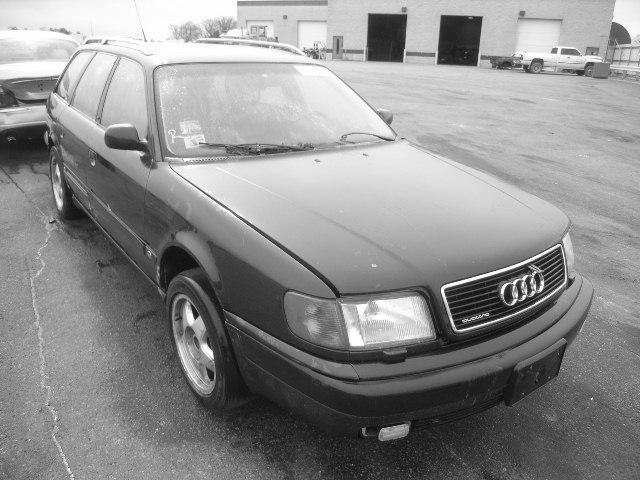car: (45, 39, 594, 444)
